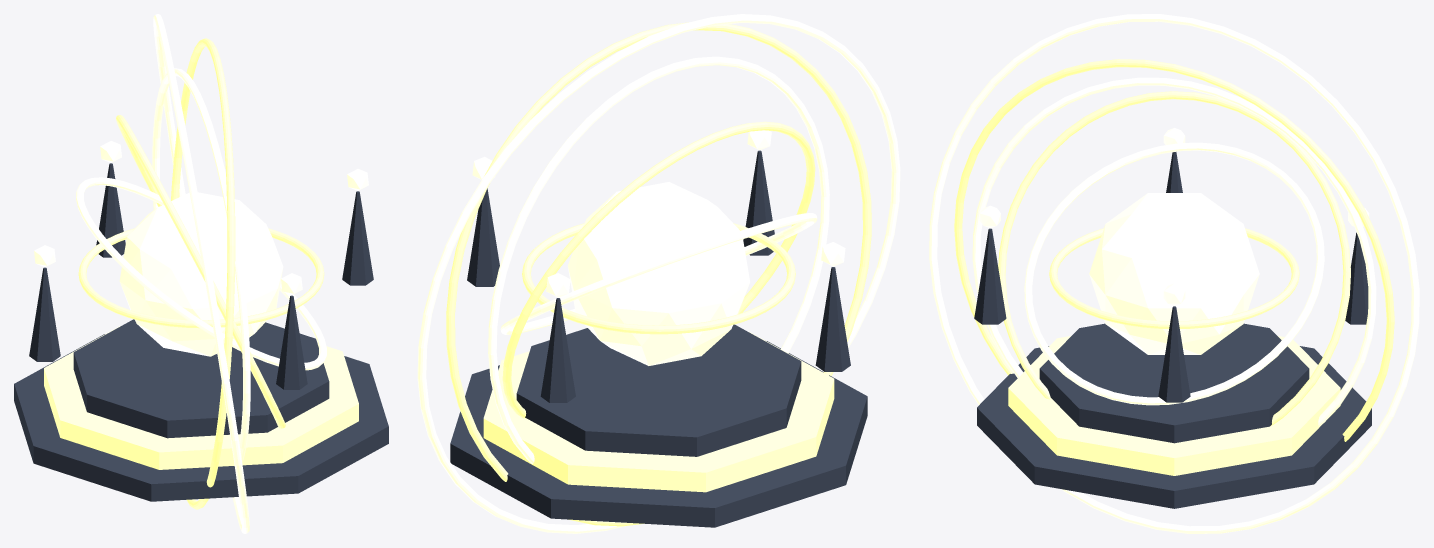
File: gpu-blender-v16.glb
3 views of the same model, side by side, from view 1: azimuth 30°, elevation 25°; view 2: azimuth 150°, elevation 25°; view 3: azimuth 270°, elevation 25° (orthographic). The views are drawn at different scales.
Visible parts, largest first — view 1: Cylinder.002, Cylinder, SovereignCore_agent-gods-eye, Cylinder.001, Torus.005, Torus.004, Torus.003, Torus.001, Torus, Torus.002, Cone, Cone.003 (+2 smaller); view 2: Cylinder.002, SovereignCore_agent-gods-eye, Cylinder, Cylinder.001, Torus.005, Torus.004, Torus.003, Torus.002, Torus, Torus.001, Cone.002, Cone.001 (+2 smaller); view 3: SovereignCore_agent-gods-eye, Cylinder.002, Cylinder, Cylinder.001, Torus.005, Torus.004, Torus.001, Torus.002, Torus.003, Torus, Cone, Cone.003 (+1 smaller).
Boxes of the visible parts, x1,y1,x2,y2 form: Cylinder.002: [73, 319, 329, 438]; Cylinder: [14, 334, 388, 501]; SovereignCore_agent-gods-eye: [119, 192, 283, 356]; Cylinder.001: [44, 326, 358, 469]; Torus.005: [153, 14, 249, 533]; Torus.004: [171, 38, 235, 509]; Torus.003: [152, 68, 250, 461]; Torus.001: [76, 177, 326, 370]; Torus: [78, 228, 324, 328]; Torus.002: [116, 115, 285, 428]; Cone: [342, 191, 373, 285]; Cone.003: [276, 295, 307, 389]; Cylinder.002: [516, 324, 801, 456]; SovereignCore_agent-gods-eye: [568, 182, 749, 365]; Cylinder: [450, 341, 867, 527]; Cylinder.001: [483, 332, 834, 492]; Torus.005: [417, 14, 900, 533]; Torus.004: [446, 22, 871, 526]; Torus.003: [488, 56, 829, 463]; Torus.002: [502, 121, 815, 418]; Torus: [522, 223, 795, 334]; Torus.001: [500, 213, 817, 334]; Cone.002: [815, 267, 850, 371]; Cone.001: [540, 298, 575, 402]; SovereignCore_agent-gods-eye: [1089, 193, 1259, 354]; Cylinder.002: [1039, 323, 1309, 443]; Cylinder: [977, 346, 1371, 508]; Cylinder.001: [1008, 336, 1340, 475]; Torus.005: [929, 14, 1419, 533]; Torus.004: [954, 59, 1394, 441]; Torus.001: [1024, 142, 1324, 405]; Torus.002: [998, 91, 1350, 425]; Torus.003: [972, 77, 1376, 426]; Torus: [1049, 228, 1299, 328]; Cone: [1158, 306, 1190, 402]; Cone.003: [974, 228, 1006, 324].
Bounding box in the file's own units: 4.41 × 5.93 × 5.46.
